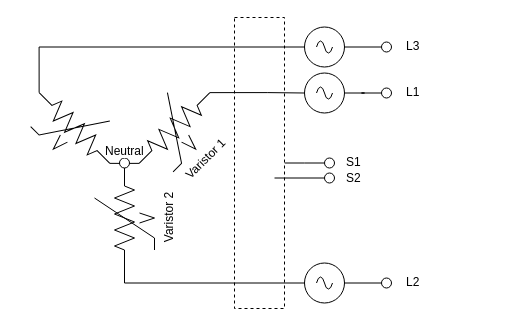
The diagram is 522 pixels wide and 326 high, and some of its shapes have lost their labels. Here are the shapes that lost their labels. From the top down, the centre of each, then its label:
At pixel 74 127: "Varistor 3".
At pixel 259 162: "3-Phase Current Transformer".
